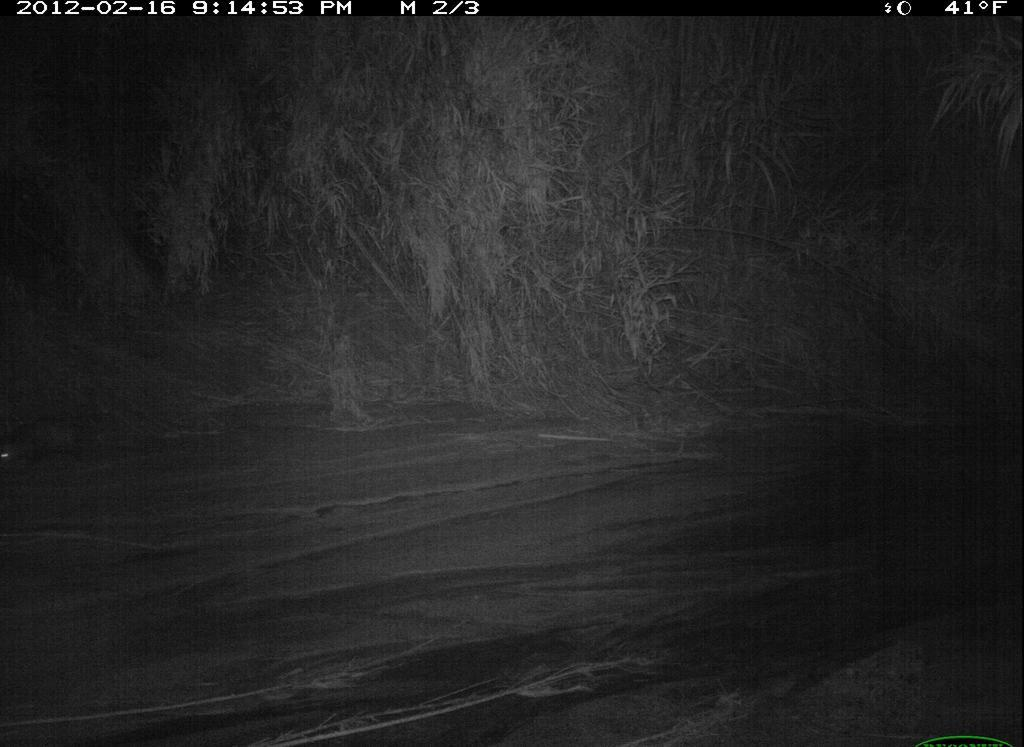opossum: (3, 418, 89, 505)
